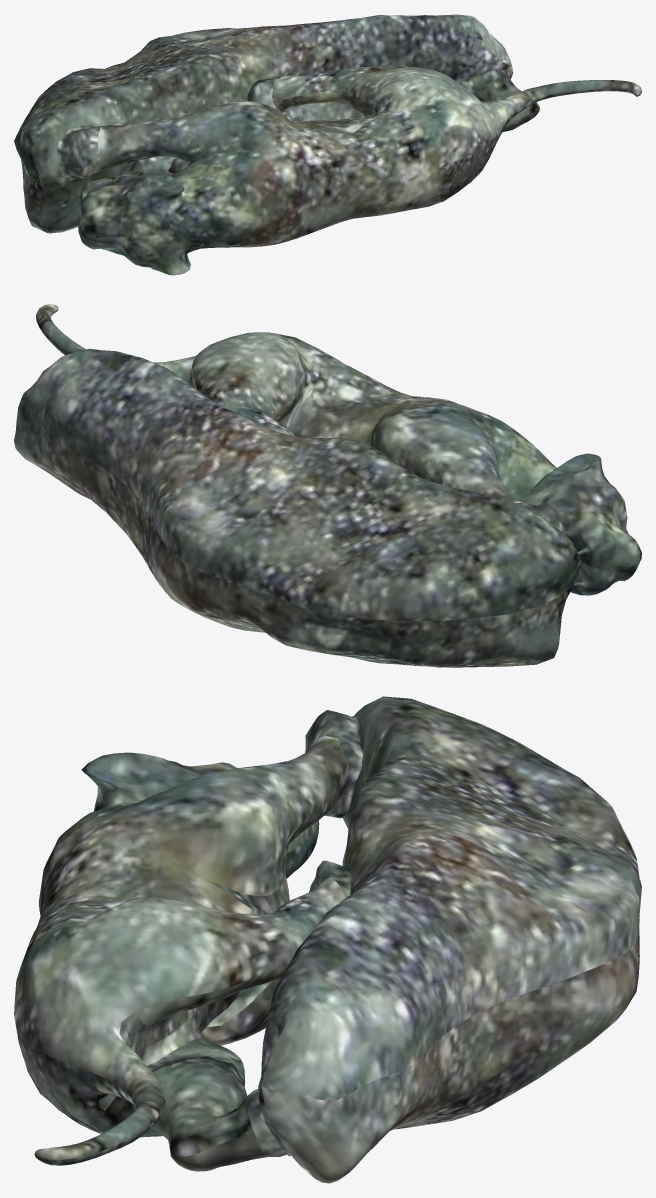
The model's file is statue.obj.
The picture shows the model from 3 angles, top to bottom: view 1: azimuth 30°, elevation 25°; view 2: azimuth 150°, elevation 25°; view 3: azimuth 270°, elevation 25°; orthographic projection. The views are drawn at different scales.
Parts seen in each view (by area): view 1: Archmodels_64_040; view 2: Archmodels_64_040; view 3: Archmodels_64_040.
Part boxes in pixels (x1,y1,x2,y2): Archmodels_64_040: (14,14,641,275); Archmodels_64_040: (14,304,641,667); Archmodels_64_040: (14,696,641,1183).
Size of the model in its own units: 5.86 by 1.7 by 3.46.
Materials: 1 (1 with a texture image).
